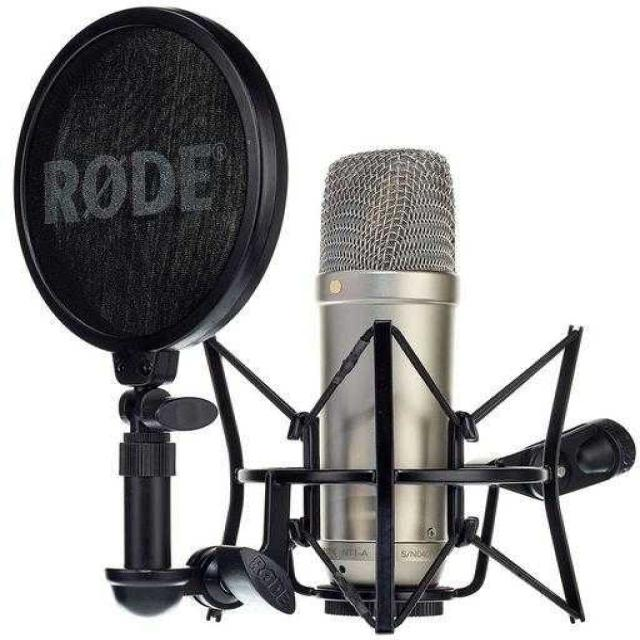microphone: (304, 105, 542, 622)
